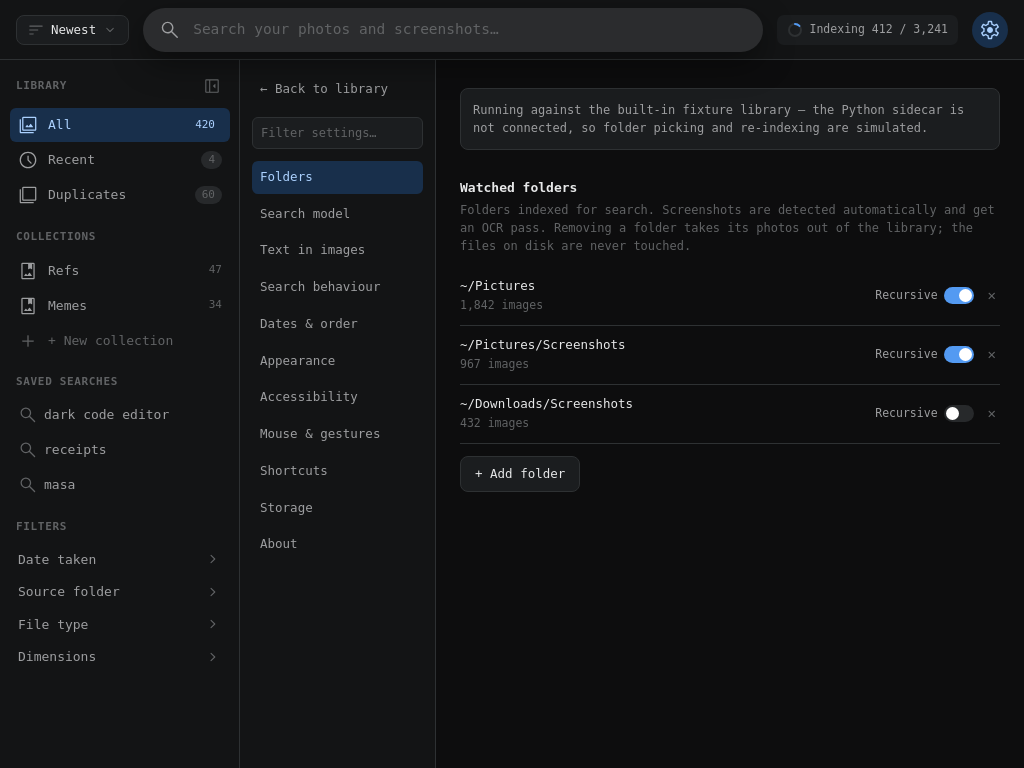
it: App › removing a watched folder asks first and says the files stay on disk
Later steps or results of the test are not shown.
Click the button named "Stop watching " at (992, 296), box x1=984 y1=283 x2=1000 y2=308
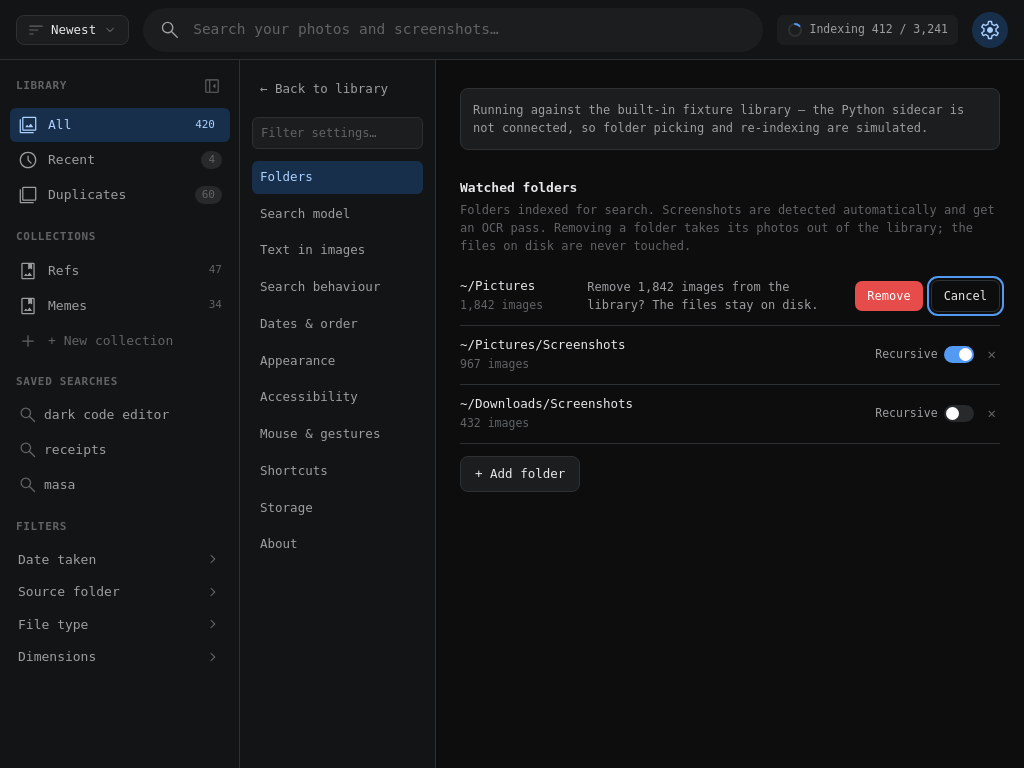
Check: the text "images from the library? The files stay on disk" is shown, box x1=587 y1=280 x2=818 y2=312
